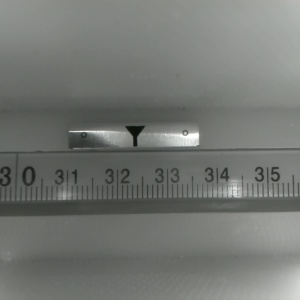0: (21, 166, 35, 186)
1: (70, 170, 77, 184)
2: (119, 168, 129, 184)
3: (0, 167, 11, 187), (253, 167, 264, 182), (53, 169, 63, 185), (104, 169, 114, 184), (153, 168, 163, 183), (169, 168, 179, 183), (205, 167, 214, 182)
5: (270, 167, 280, 182)
finger: (123, 126, 145, 146)
